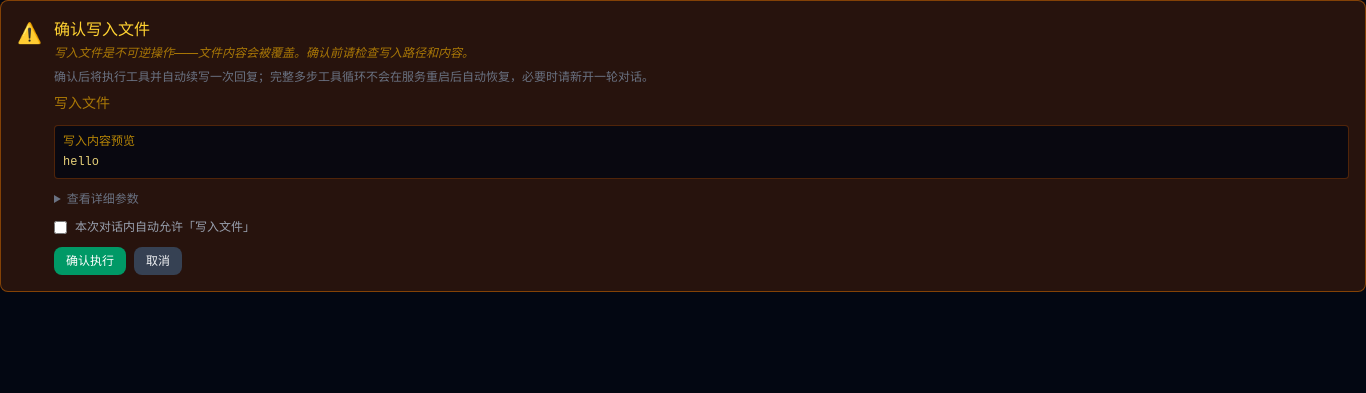
Test: ConfirmationDialog › renders human-readable label and expandable arguments
The width and height of the screenshot is (1366, 393).
Expected: the heading "确认写入文件" is shown, [54,19,150,39]
Expected: the text "确认后将执行工具并自动续写一次回复；完整多步工具循环不会在服务重启后自动恢复，必要时请新开一轮对话。" is shown, [54,69,654,84]
Argument details are expandable — expand them
Click the heading "查看详细参数".
click(103, 198)  # box [67,191,139,206]
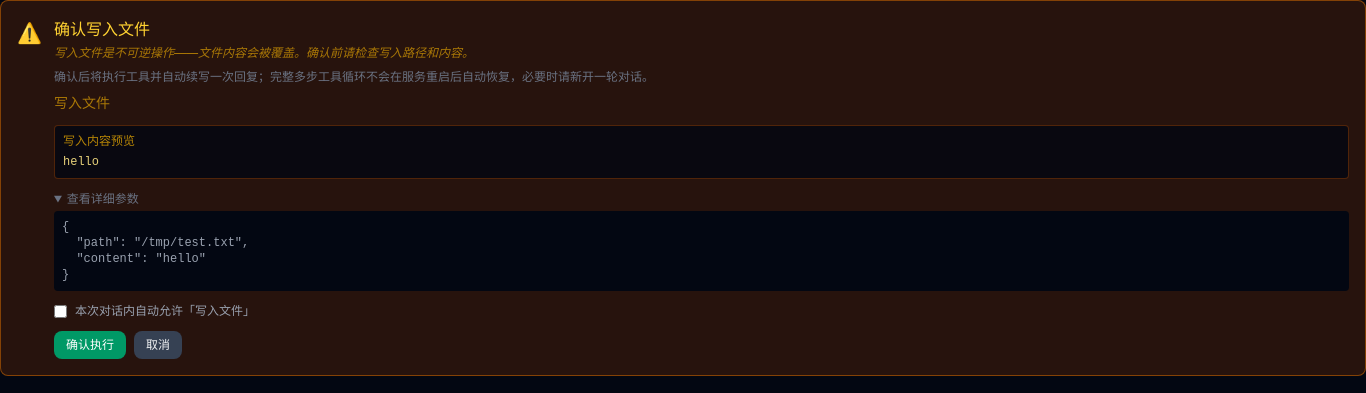
Expected: the text "{ \"path\": \"/tmp/test.txt\", \"content\": \"hello\" }" is shown, [54,211,1349,291]
